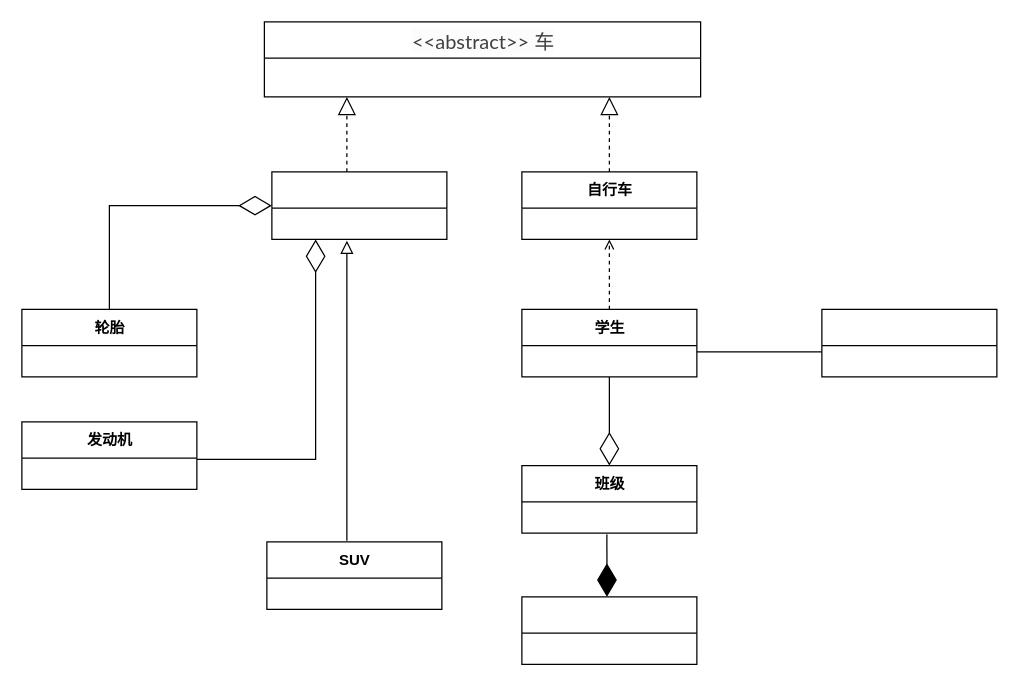
Some shapes in this 1019 by 686 pixel diagram are drawn without their labels. The shapes that lost their labels are listed below. From the top down, each one's centre as x and y in pixels, then its label:
[359,205]: 汽车
[909,342]: 身份证
[609,630]: 学校
